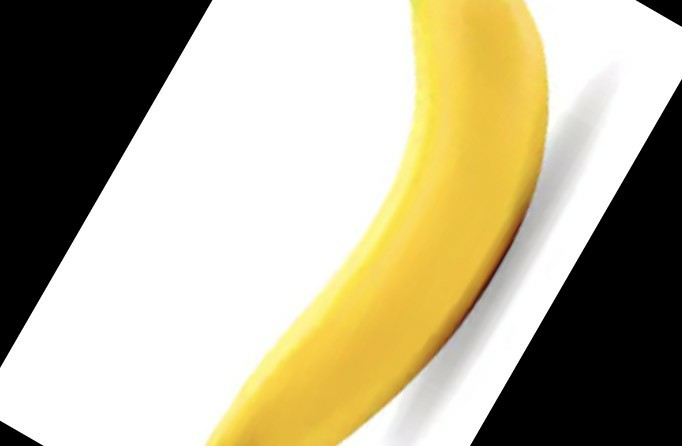fresh_banana: (216, 1, 545, 446)
